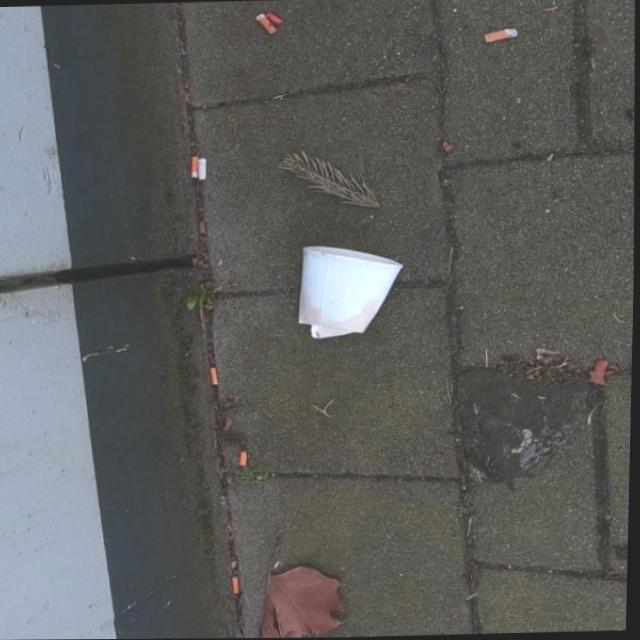Cup: (296, 242, 409, 340)
